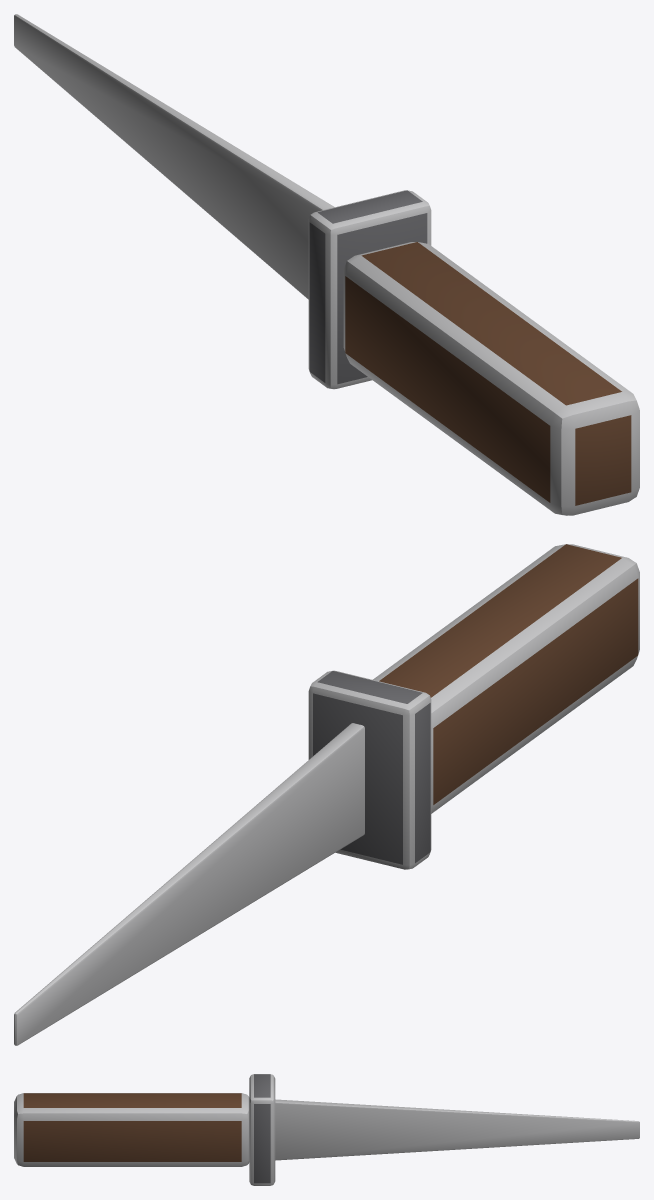
File: knife.glb
The picture shows the model from 3 angles, top to bottom: view 1: azimuth 30°, elevation 25°; view 2: azimuth 150°, elevation 25°; view 3: azimuth 270°, elevation 25°; orthographic projection. The views are drawn at different scales.
Visible parts, largest first — view 1: knife_LOD0; view 2: knife_LOD0; view 3: knife_LOD0.
Boxes of the visible parts, x1,y1,x2,y2 form: knife_LOD0: (14,14,639,515); knife_LOD0: (14,544,639,1045); knife_LOD0: (14,1074,639,1185).
Size of the model in its own units: 0.03 by 0.045 by 0.29.
